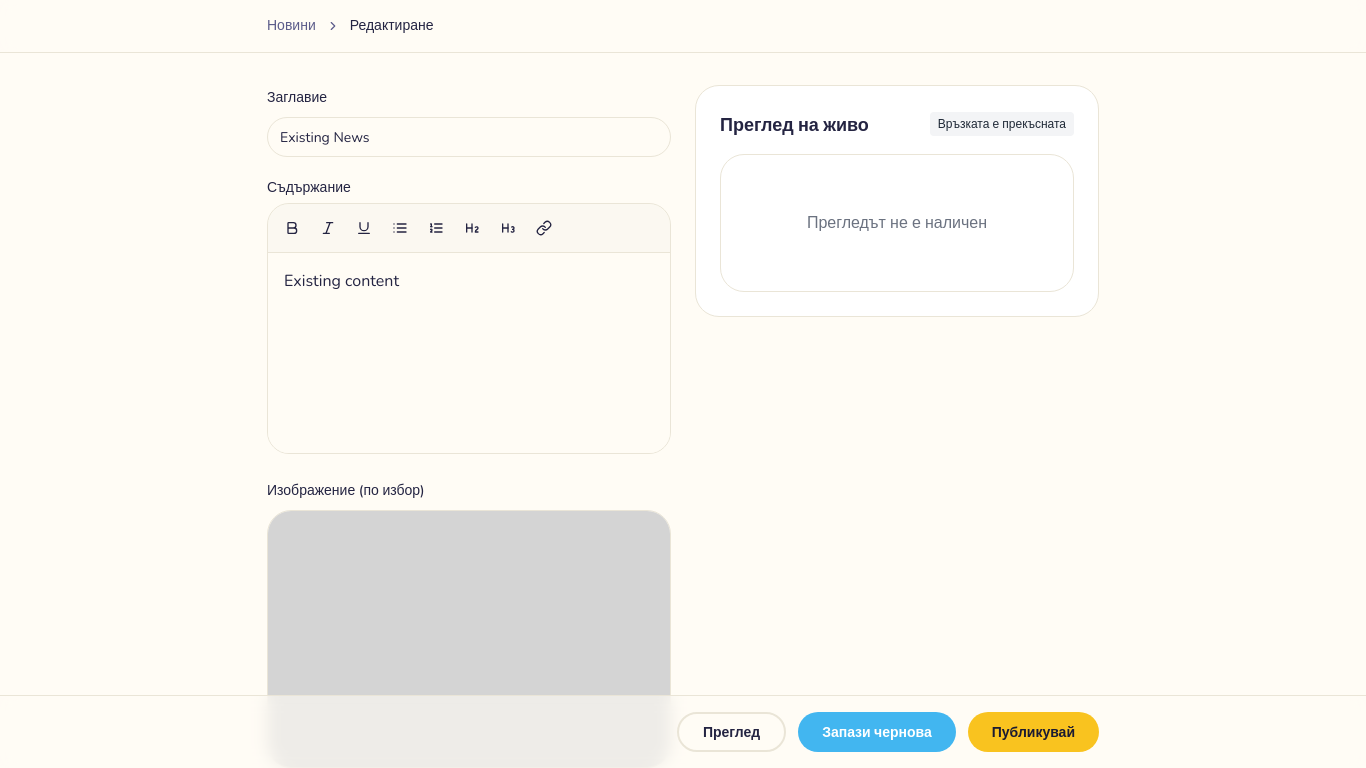
Test: NewsEdit › Auto-Save Functionality › handles auto-save errors and shows error state
Replace the text in the field labelled "Заглавие" with "Test Error" at (469, 137), box x1=267 y1=117 x2=671 y2=157
Wait 10000 ms
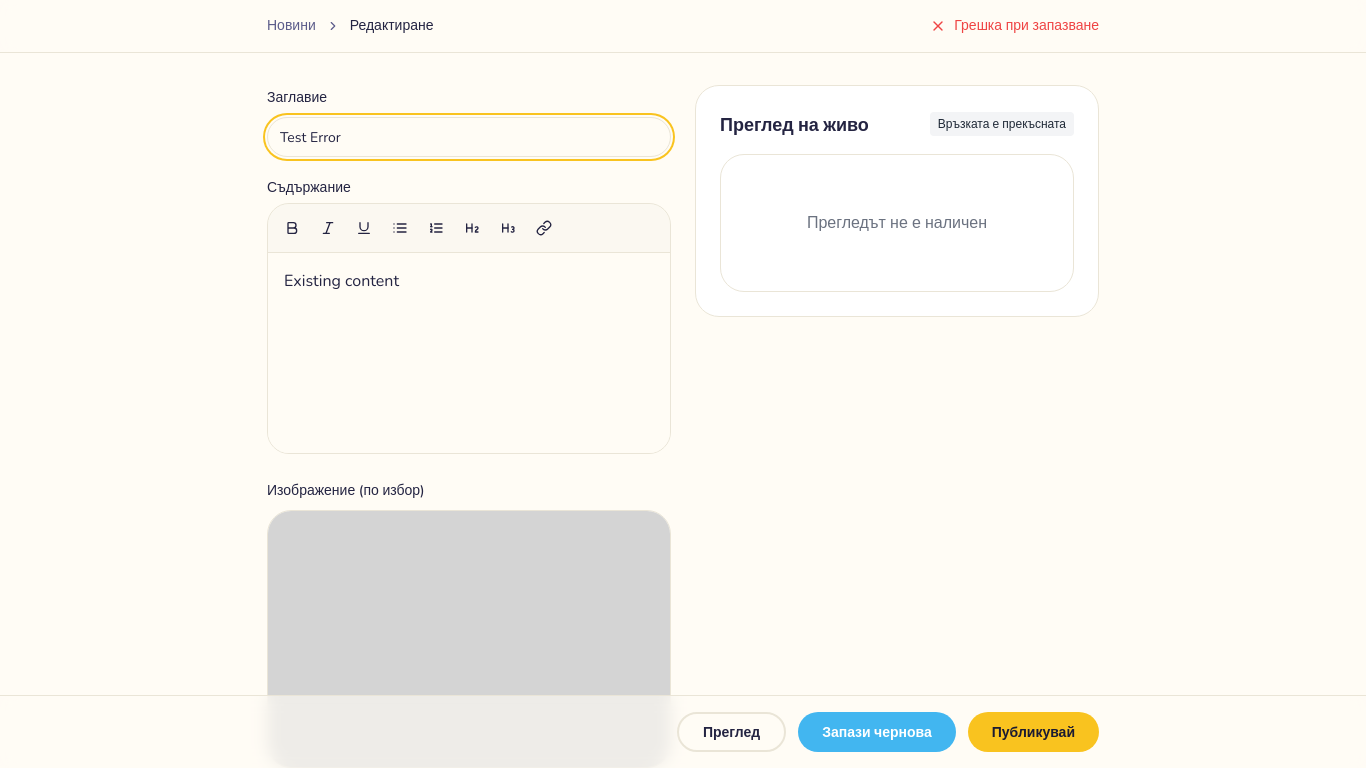
Expected: the text "Грешка при запазване" is shown, x1=954 y1=16 x2=1099 y2=36
